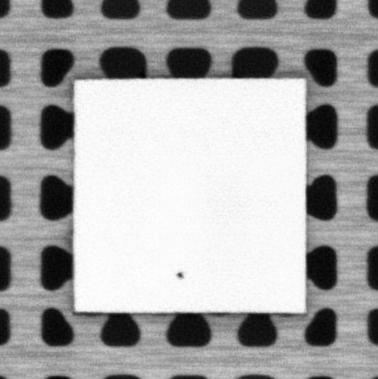DIE_INK: (175, 270, 185, 281)
